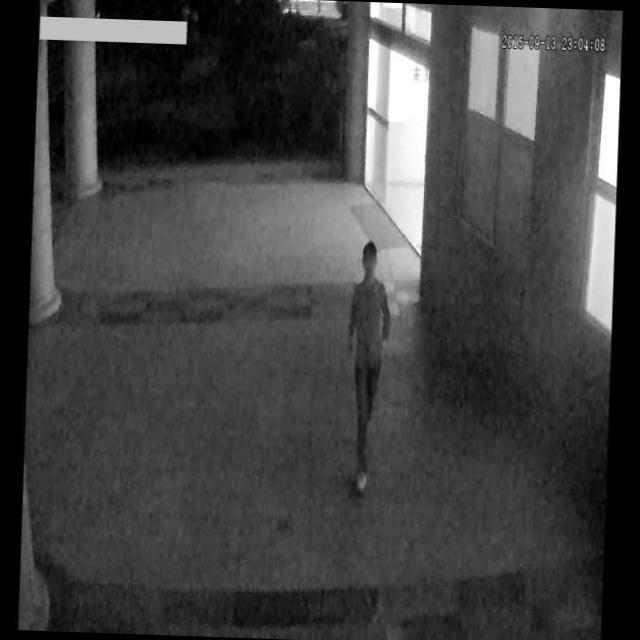person: (341, 235, 398, 507)
